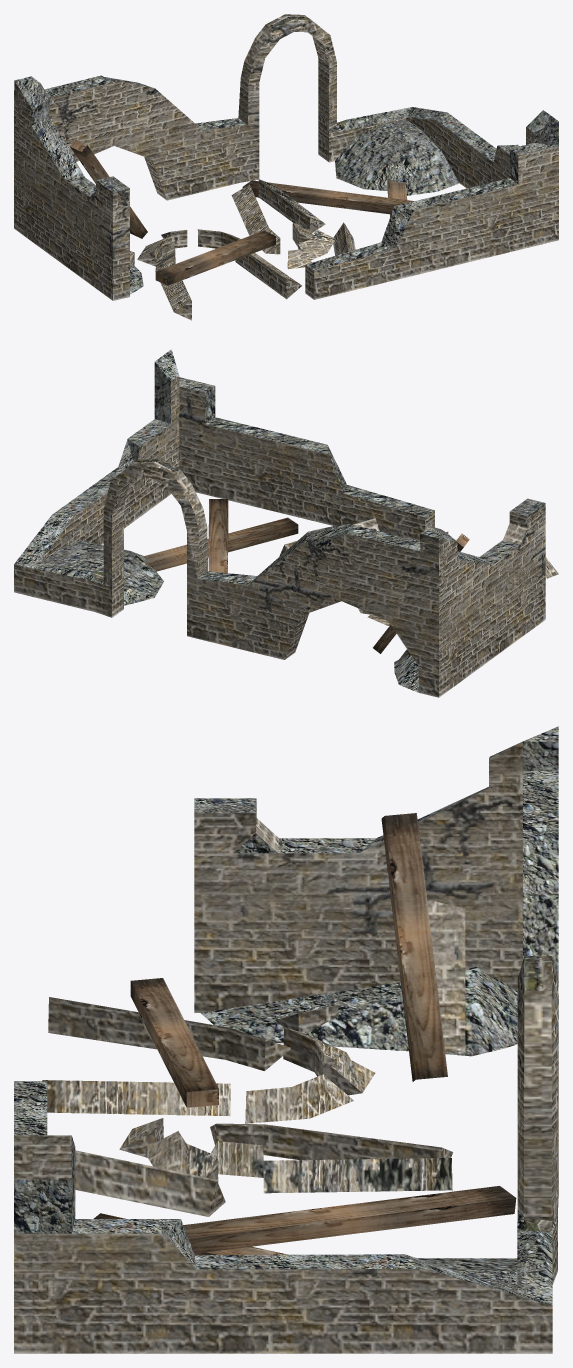
Rendered from building_ruin_05.glb.
The picture shows the model from 3 angles, top to bottom: view 1: azimuth 30°, elevation 25°; view 2: azimuth 150°, elevation 25°; view 3: azimuth 270°, elevation 25°; orthographic projection. The views are drawn at different scales.
Visible parts, largest first — view 1: building_ruin_05; view 2: building_ruin_05; view 3: building_ruin_05.
Boxes of the visible parts, x1,y1,x2,y2 form: building_ruin_05: [14, 14, 558, 320]; building_ruin_05: [14, 349, 558, 697]; building_ruin_05: [14, 726, 558, 1353].
Bounding box in the file's own units: 16.59 × 6.31 × 10.74.
Materials: 3 (3 with a texture image).
